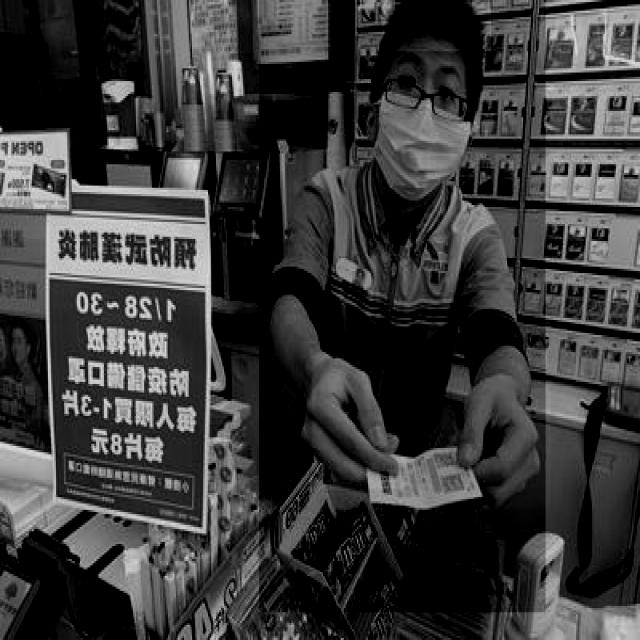face_mask: (365, 58, 469, 213)
glasses: (383, 74, 470, 122)
hand_noglove: (452, 375, 550, 510), (310, 354, 406, 491)
head_nohelmet: (382, 2, 492, 51)
person: (258, 0, 546, 614)
